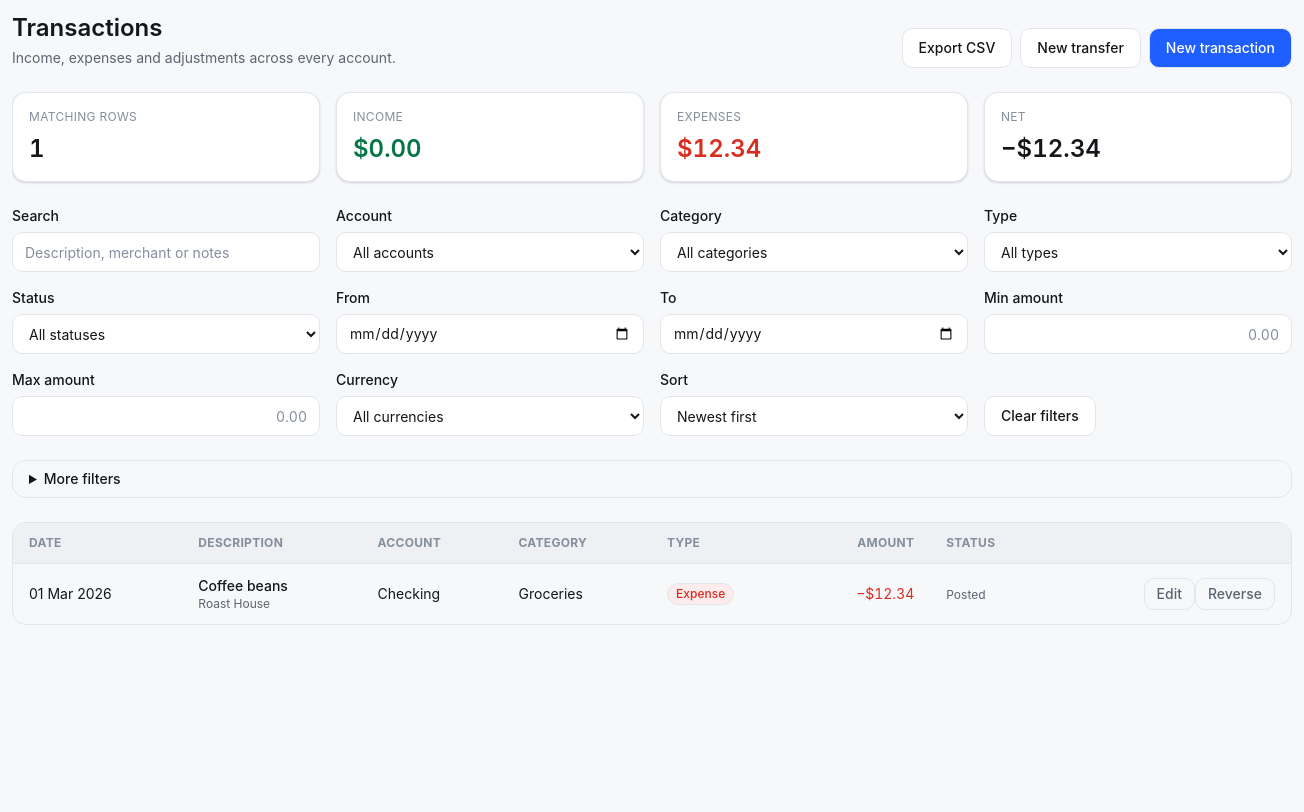
TransactionsPage › writes filter changes back to the URL
Expected: the text "Coffee beans" is shown, x1=198 y1=577 x2=288 y2=594
Select "Income" in the dropdown labelled "Type" at (1138,252), box x1=984 y1=232 x2=1292 y2=272
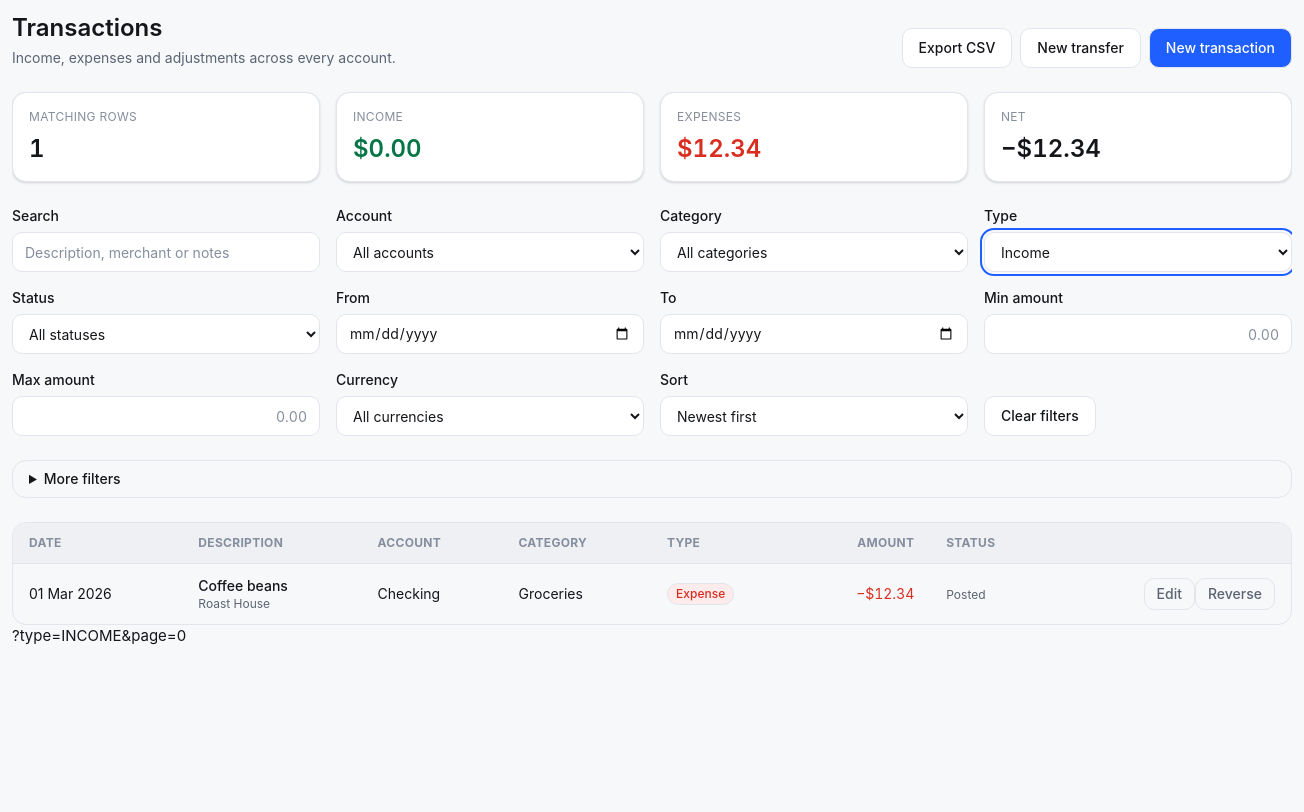
Now the text with test id "location" shows "type=INCOME", box x1=12 y1=626 x2=186 y2=645
